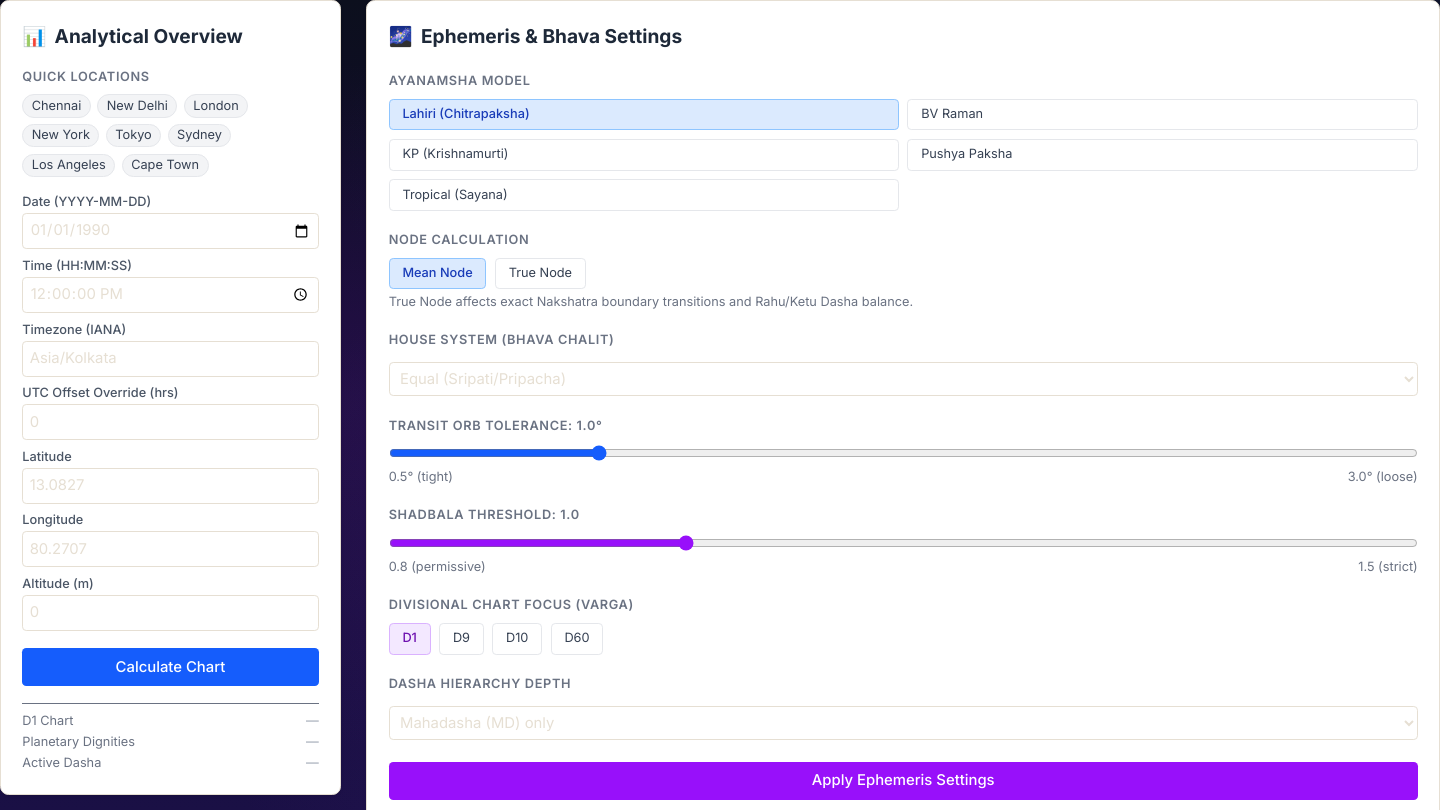
Test case: ChartInputForm › applies preset location values when clicked
The image size is (1440, 810).
Step 1. Click the button "London" → point(216, 106), box [184, 94, 248, 118]
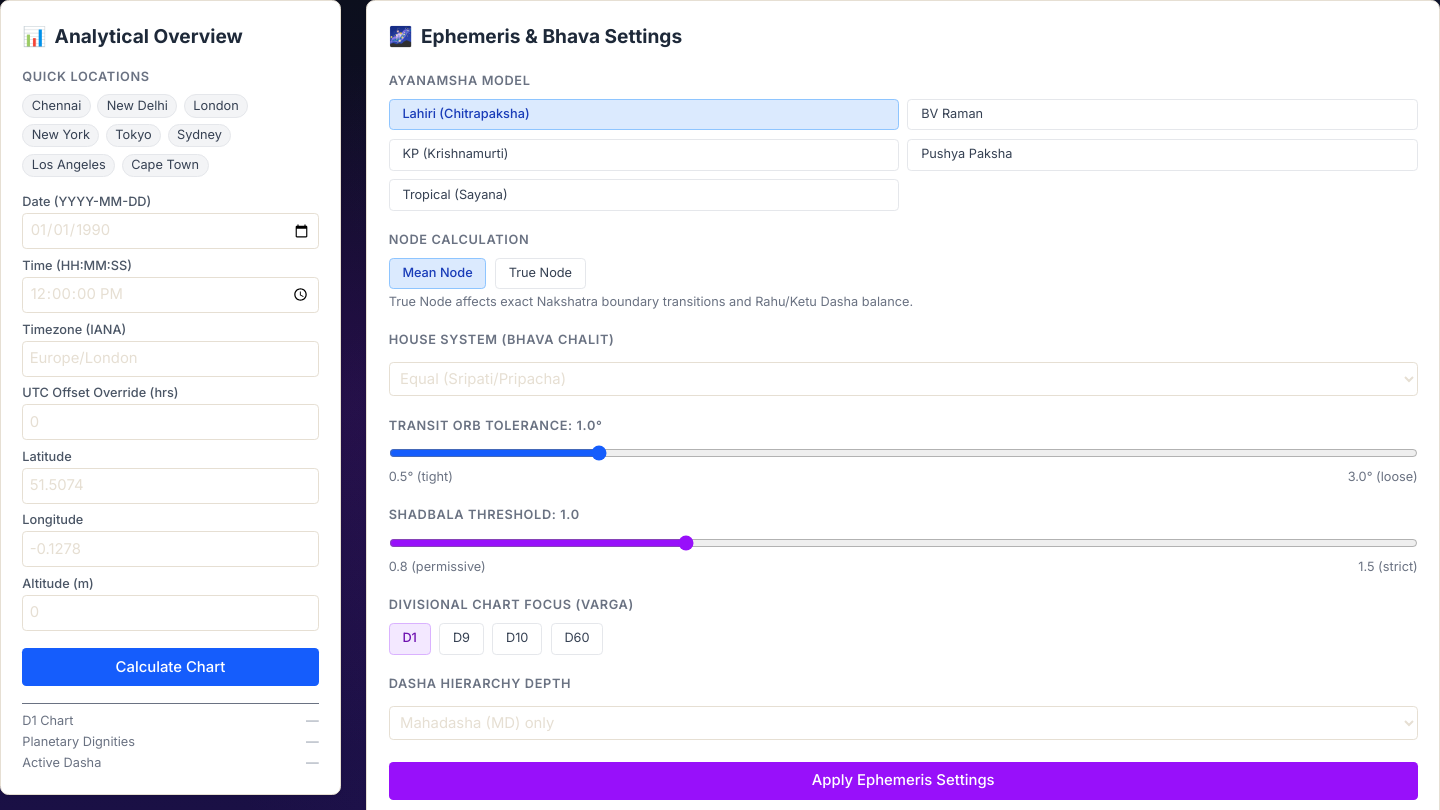
expect the field holds "Europe/London": met, box [22, 341, 319, 377]
